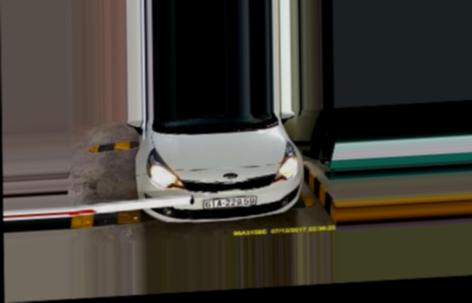License_Plate: (202, 192, 256, 211)
